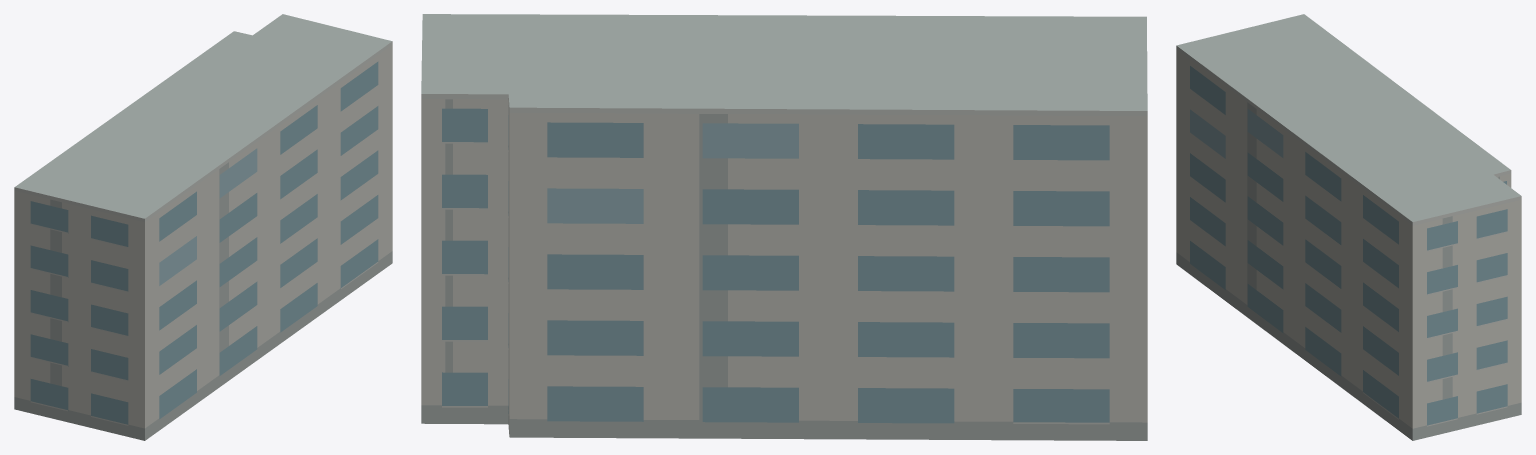
The model's file is survey-upis-32902053.glb.
3 views of the same model, side by side, from view 1: azimuth 30°, elevation 25°; view 2: azimuth 150°, elevation 25°; view 3: azimuth 270°, elevation 25° (orthographic). The views are drawn at different scales.
Visible parts, largest first — view 1: survey-upis-32902053.tmp; view 2: survey-upis-32902053.tmp; view 3: survey-upis-32902053.tmp.
Boxes of the visible parts, x1,y1,x2,y2 form: survey-upis-32902053.tmp: (14, 14, 392, 440); survey-upis-32902053.tmp: (421, 14, 1147, 440); survey-upis-32902053.tmp: (1176, 14, 1521, 440).
Size of the model in its own units: 31.13 by 15.25 by 21.84.
